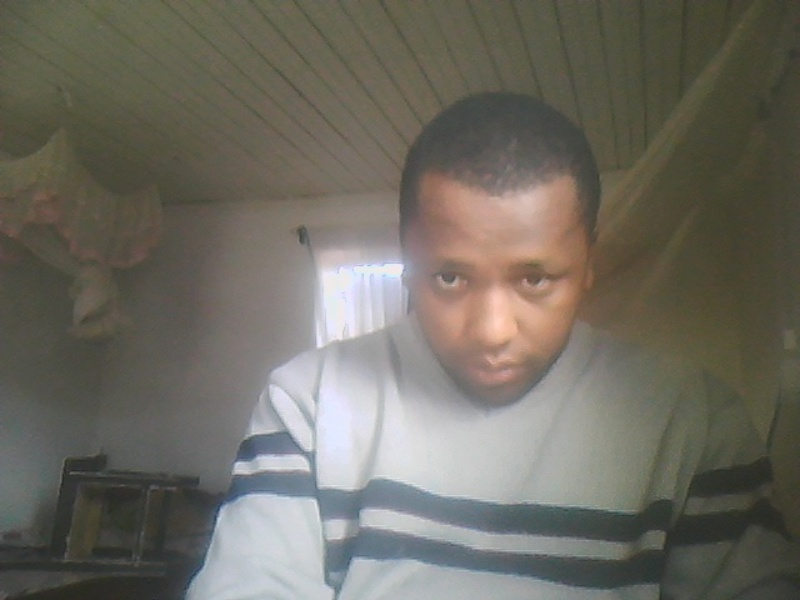TsisyArotava: (396, 107, 606, 423)
